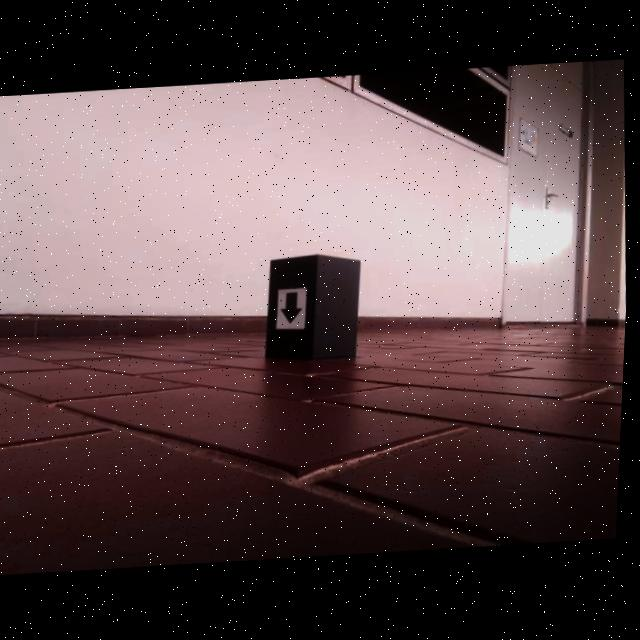DOWN: (283, 292, 306, 325)
